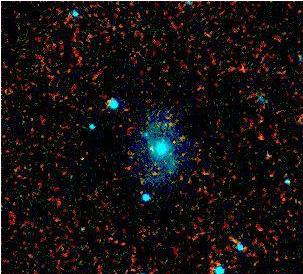star: (139, 139, 169, 169)
